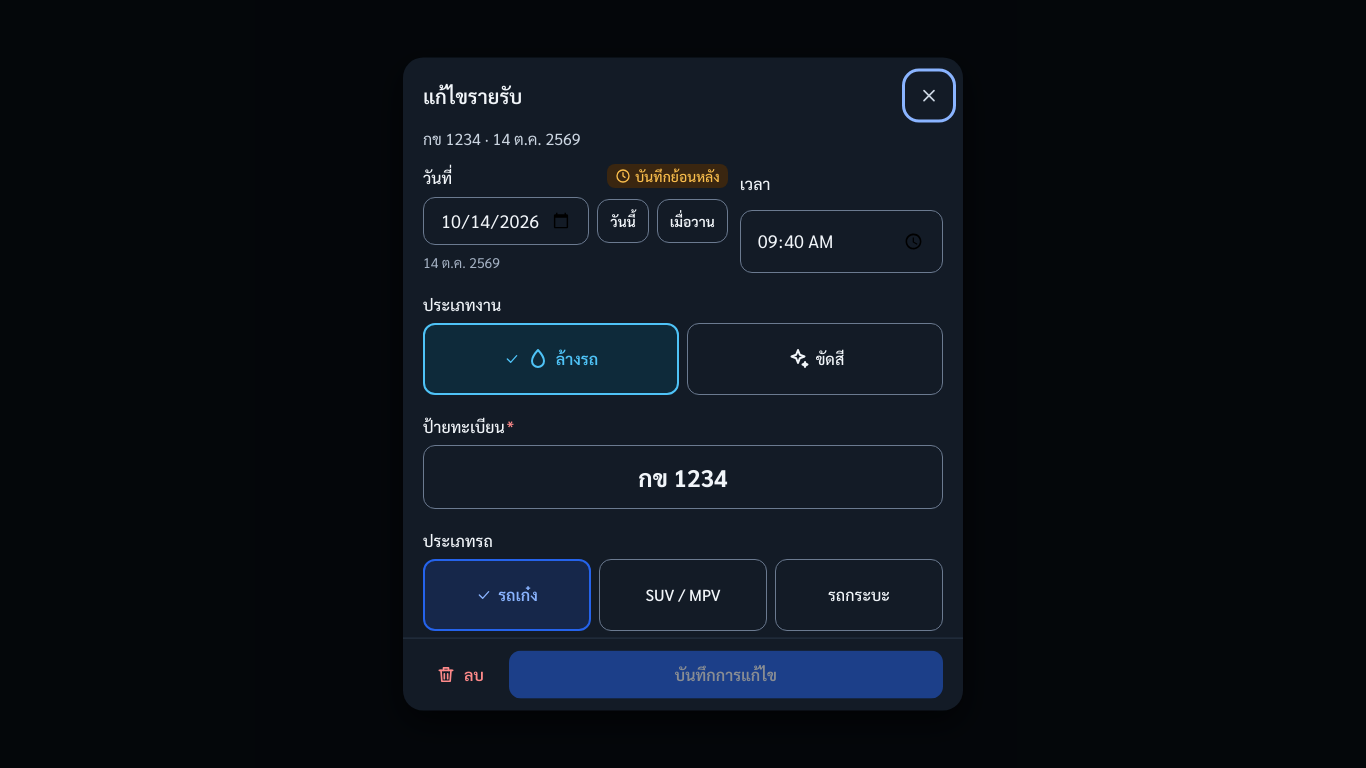
Test: EditRecordDialog › does not save an emptied plate (AC-26-2)
Clear the field labelled "ป้ายทะเบียน*" at (683, 477), box [440,446,926,508]
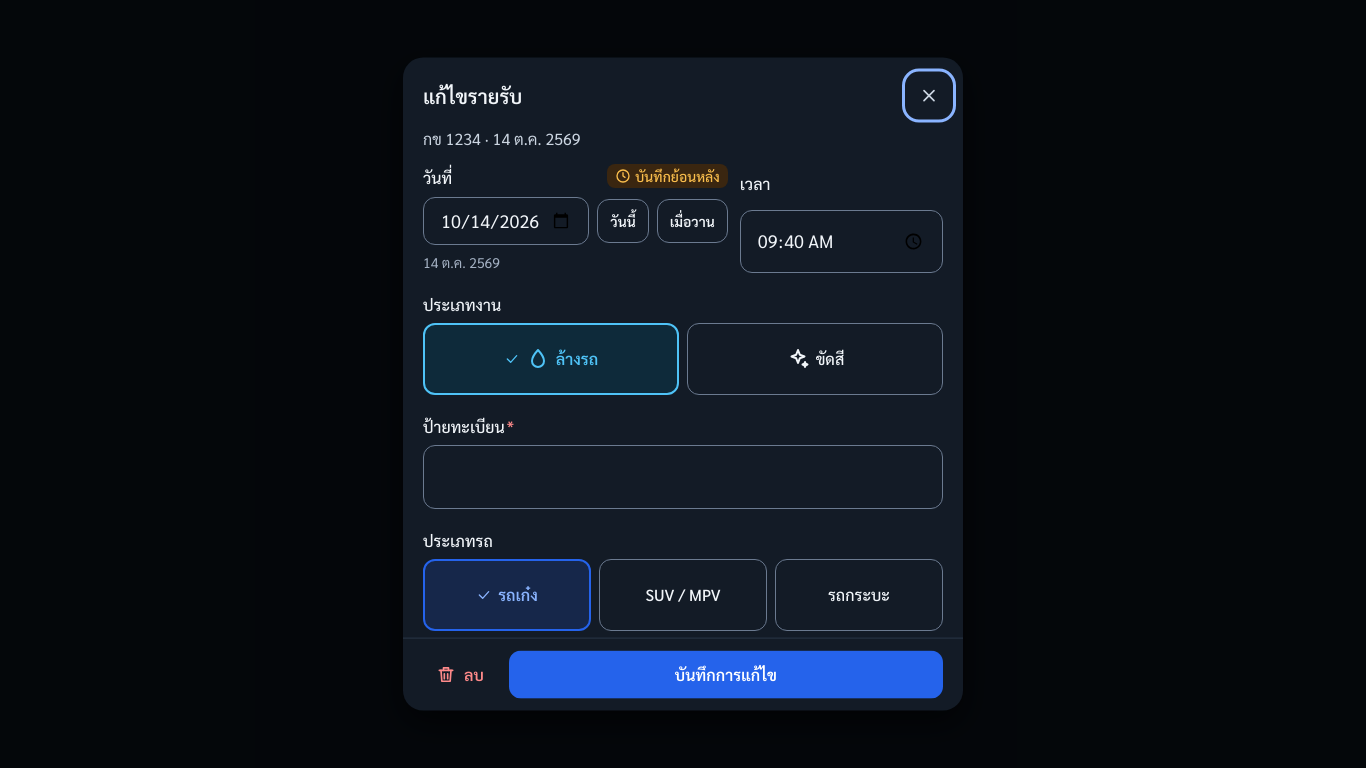
Click the button "บันทึกการแก้ไข".
click(726, 674)  # box [509,650,943,698]
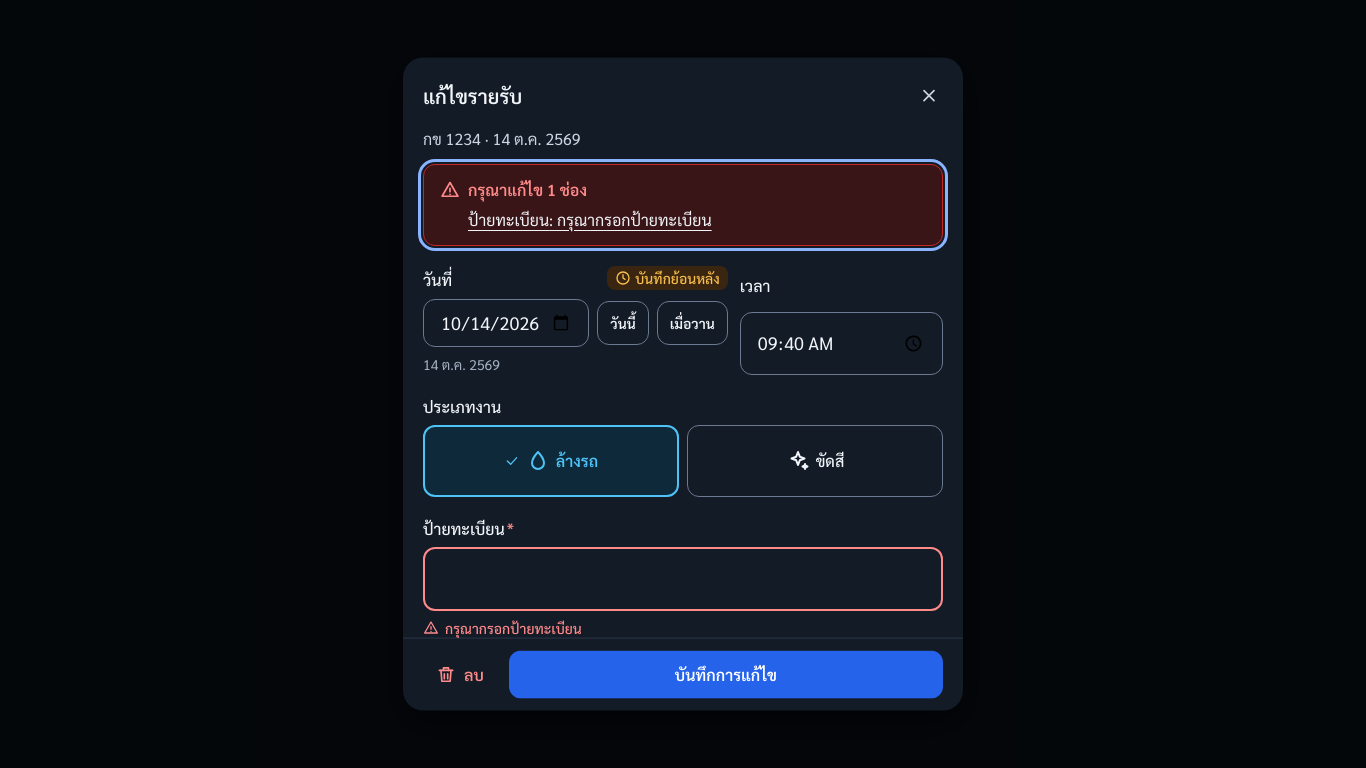
Check: the text "กรุณาแก้ไข 1 ช่อง" is shown, box [440,179,587,200]
